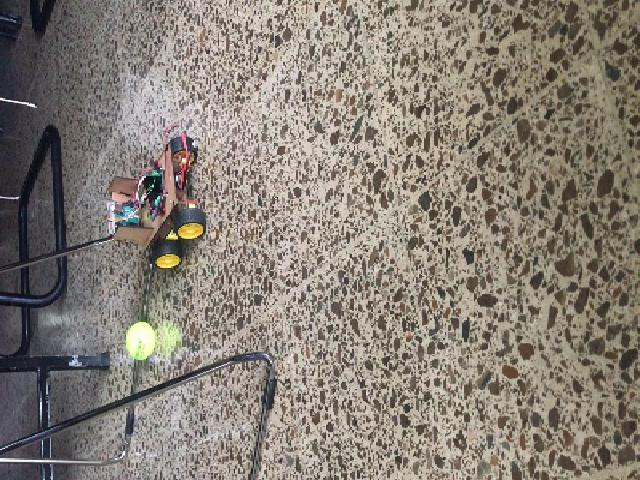Ball: (123, 319, 155, 360)
Robot: (106, 136, 203, 270)
